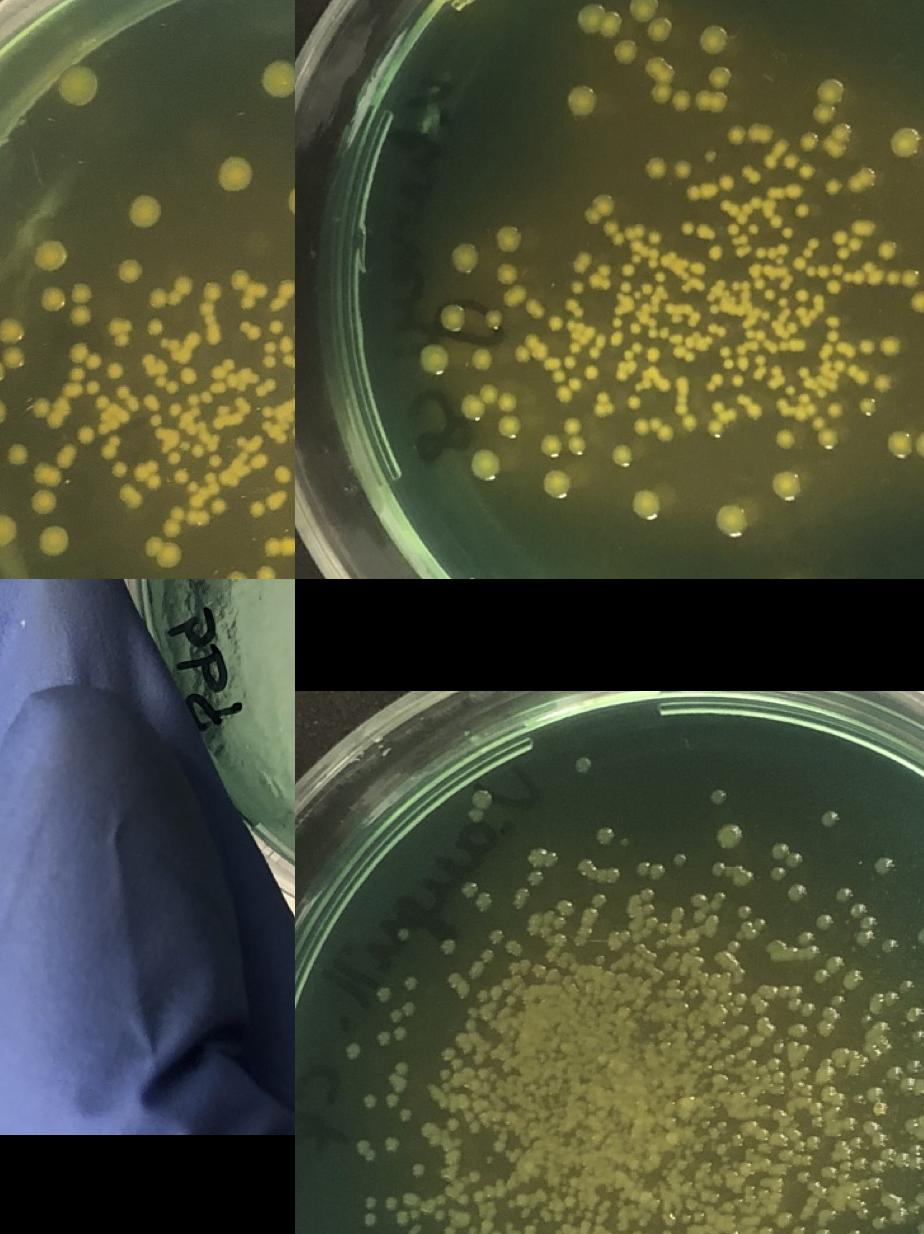vangil: (370, 998, 417, 1047), (814, 952, 864, 990), (817, 990, 848, 1038), (480, 926, 507, 962), (360, 1190, 382, 1230), (772, 840, 804, 866), (864, 1117, 888, 1147), (868, 1084, 888, 1116), (905, 1047, 924, 1075), (880, 934, 904, 956), (834, 882, 858, 904), (820, 805, 844, 827), (812, 910, 836, 932), (708, 785, 732, 807), (873, 854, 896, 876), (375, 982, 398, 1002), (438, 936, 460, 956), (400, 972, 422, 992), (359, 1092, 381, 1112), (344, 1042, 366, 1062), (409, 1160, 431, 1178), (380, 1134, 402, 1152), (898, 974, 916, 992), (857, 927, 875, 945), (796, 928, 814, 946), (789, 1021, 807, 1039), (770, 863, 788, 881), (735, 902, 753, 920), (526, 868, 544, 886), (398, 1106, 416, 1124), (384, 1092, 402, 1110), (871, 1212, 888, 1230), (590, 890, 608, 907), (885, 1064, 903, 1080), (618, 833, 634, 851), (396, 924, 412, 942), (394, 1058, 410, 1076), (384, 1195, 400, 1213), (672, 850, 687, 868), (475, 985, 490, 1003), (577, 756, 592, 773), (462, 879, 476, 897), (777, 1210, 792, 1226), (914, 925, 924, 947), (773, 1068, 786, 1082), (442, 1222, 457, 1234), (482, 1153, 496, 1165), (456, 1192, 470, 1204), (847, 1225, 864, 1234), (815, 1226, 830, 1234), (491, 1230, 505, 1234)
vharveyi: (168, 390, 218, 457), (884, 405, 924, 460), (632, 0, 672, 42), (812, 77, 844, 124), (578, 3, 622, 36), (721, 196, 773, 223), (630, 303, 668, 338), (158, 332, 200, 363), (714, 502, 750, 538), (470, 445, 506, 481), (164, 506, 210, 534), (460, 384, 496, 419), (0, 319, 25, 367), (564, 84, 599, 118), (628, 487, 663, 520), (492, 220, 525, 254), (418, 343, 452, 376), (542, 466, 575, 499), (698, 23, 732, 55), (448, 242, 482, 274), (890, 126, 922, 158), (770, 468, 802, 500), (98, 405, 130, 436), (584, 192, 616, 223), (616, 342, 642, 379), (264, 64, 295, 95), (62, 71, 94, 101), (566, 320, 596, 352), (220, 158, 249, 190), (130, 197, 160, 227), (34, 241, 64, 271), (438, 303, 468, 333), (68, 342, 101, 369), (634, 418, 674, 440), (605, 221, 645, 243), (39, 526, 68, 556), (797, 294, 824, 325), (147, 540, 179, 566), (730, 123, 772, 142), (564, 418, 586, 454), (610, 296, 634, 328), (200, 302, 218, 344), (848, 167, 876, 193), (32, 461, 61, 486), (708, 64, 732, 90), (670, 334, 694, 360), (642, 53, 666, 79), (613, 38, 637, 64), (496, 413, 520, 439), (888, 268, 919, 288), (696, 90, 725, 110), (118, 258, 142, 282), (115, 385, 139, 409), (41, 288, 65, 312), (32, 490, 56, 514), (794, 392, 816, 418), (167, 278, 190, 302), (590, 265, 612, 290), (133, 459, 160, 479), (144, 354, 168, 376), (830, 121, 854, 143), (713, 400, 737, 422), (109, 320, 129, 346), (0, 515, 16, 545), (756, 243, 790, 257), (595, 391, 614, 415), (153, 375, 179, 392), (730, 280, 752, 300), (727, 223, 747, 245), (525, 334, 545, 356), (214, 404, 232, 428), (211, 360, 235, 378), (102, 436, 122, 457), (846, 365, 869, 383), (31, 396, 51, 416), (9, 443, 29, 463), (768, 366, 786, 388), (705, 370, 723, 392), (820, 365, 837, 388), (766, 186, 798, 198), (239, 320, 260, 338), (802, 236, 820, 257), (203, 470, 220, 492), (863, 261, 880, 283), (255, 378, 278, 394), (217, 471, 240, 487), (747, 308, 770, 324), (268, 424, 288, 442), (72, 282, 90, 302), (72, 304, 90, 324), (58, 446, 76, 466), (826, 316, 840, 341), (780, 338, 808, 350), (688, 184, 712, 198), (742, 166, 760, 184), (613, 446, 631, 464), (566, 298, 584, 316), (506, 287, 525, 304), (805, 265, 829, 278), (910, 292, 924, 314), (654, 82, 671, 100), (474, 350, 491, 368), (666, 302, 682, 321), (706, 322, 727, 336), (852, 218, 868, 236), (802, 132, 818, 150), (776, 431, 794, 447), (674, 160, 692, 176), (648, 158, 664, 176), (574, 254, 592, 270), (544, 436, 560, 454), (676, 392, 689, 414), (526, 300, 543, 316), (826, 401, 844, 416), (154, 426, 173, 440), (255, 566, 275, 579), (686, 337, 706, 350), (626, 394, 642, 410), (651, 287, 666, 304), (884, 337, 898, 355), (880, 241, 894, 259), (674, 92, 688, 110), (500, 265, 514, 283), (500, 392, 514, 410), (287, 183, 295, 214), (778, 298, 791, 317), (647, 249, 660, 268), (820, 430, 835, 446), (876, 374, 890, 390), (819, 343, 833, 359), (224, 570, 248, 579), (780, 274, 794, 289), (281, 281, 295, 295), (276, 468, 290, 482), (266, 539, 280, 553), (233, 272, 247, 286), (151, 290, 165, 304), (147, 474, 161, 488), (120, 486, 134, 500), (108, 364, 122, 378), (80, 426, 94, 440), (862, 398, 876, 412), (0, 345, 5, 384), (281, 354, 295, 367), (268, 495, 281, 509), (182, 369, 195, 383), (145, 395, 158, 409), (71, 366, 84, 380), (283, 538, 295, 552), (279, 338, 293, 350), (270, 320, 284, 332), (264, 341, 278, 353), (254, 455, 268, 467), (250, 504, 264, 516), (226, 373, 240, 385), (208, 454, 222, 466), (206, 286, 220, 298), (190, 495, 204, 507), (187, 480, 201, 492), (176, 470, 190, 482), (168, 451, 182, 463), (112, 463, 126, 475), (94, 395, 108, 407), (86, 380, 98, 394), (68, 383, 82, 395), (0, 397, 7, 421), (848, 238, 862, 250), (830, 263, 844, 275), (826, 180, 840, 192), (812, 417, 826, 429), (748, 405, 762, 417), (730, 374, 744, 386), (620, 263, 634, 275), (584, 366, 598, 378), (564, 355, 578, 367), (546, 357, 560, 369), (514, 348, 528, 360), (263, 356, 276, 368), (242, 295, 255, 307), (236, 436, 249, 448), (214, 499, 226, 512), (676, 376, 689, 388), (647, 232, 660, 244), (588, 346, 601, 358), (689, 312, 700, 326), (272, 297, 284, 309), (254, 283, 266, 295), (214, 381, 226, 393), (150, 321, 162, 333), (150, 412, 162, 424), (56, 401, 68, 413), (50, 413, 62, 425), (861, 341, 873, 353), (854, 271, 866, 283), (838, 247, 850, 259), (834, 232, 846, 244), (828, 281, 840, 293), (796, 204, 808, 216), (796, 289, 808, 301), (794, 257, 806, 269), (782, 227, 794, 239), (770, 215, 782, 227), (765, 155, 777, 167), (747, 223, 759, 235), (737, 356, 749, 368), (722, 358, 734, 370), (720, 176, 732, 188), (720, 344, 732, 356), (710, 247, 722, 259), (710, 423, 722, 435), (704, 149, 716, 161), (697, 225, 709, 237), (692, 262, 704, 274), (683, 222, 695, 234), (683, 417, 695, 429), (658, 378, 670, 390), (619, 281, 631, 293), (609, 332, 621, 344), (595, 334, 607, 346), (572, 281, 584, 293), (569, 377, 581, 389), (558, 386, 570, 398), (552, 370, 564, 382), (549, 316, 561, 328), (800, 164, 811, 176), (799, 366, 810, 378), (785, 155, 796, 167), (776, 139, 787, 151), (648, 349, 659, 361), (488, 313, 499, 325)
